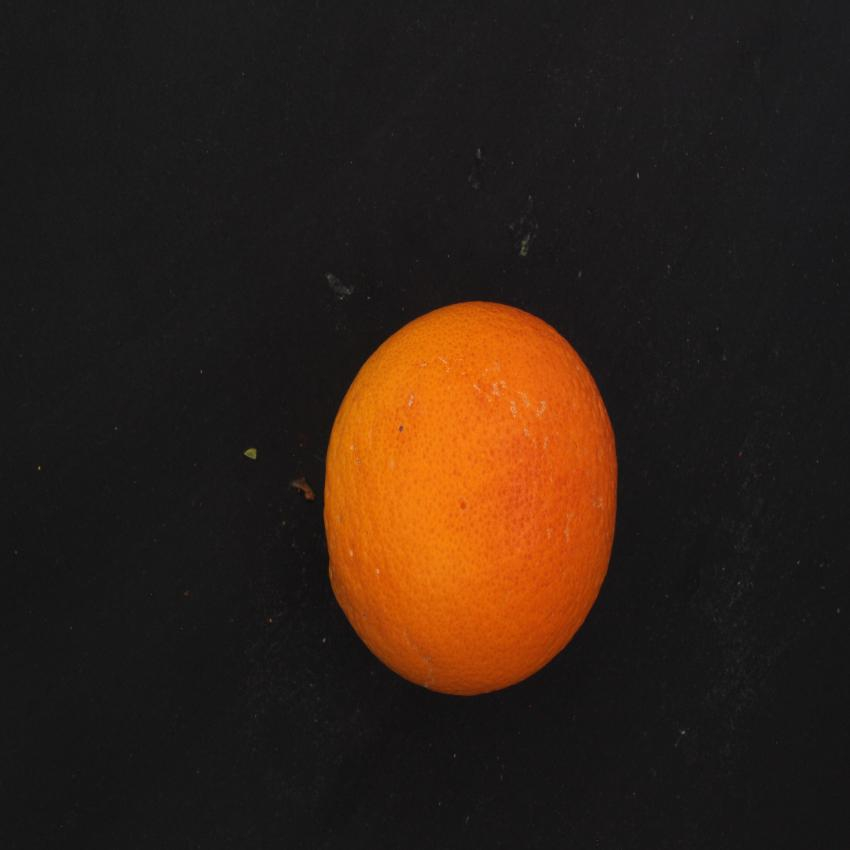Buen estado: (317, 292, 630, 708)
